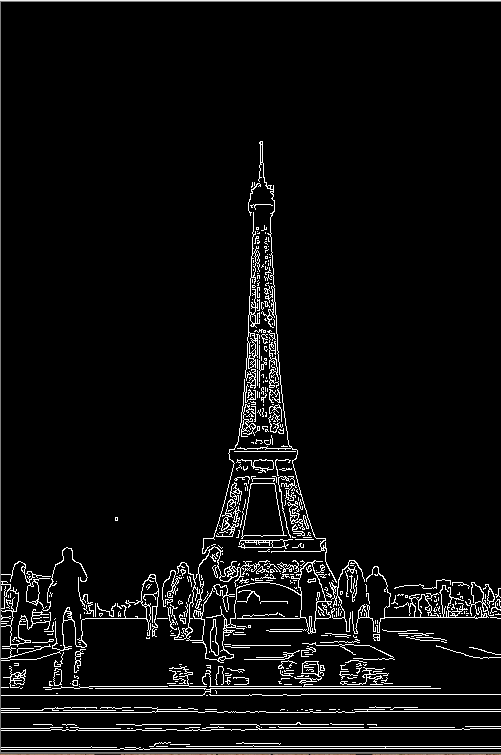eiffel tower: (183, 115, 345, 594)
